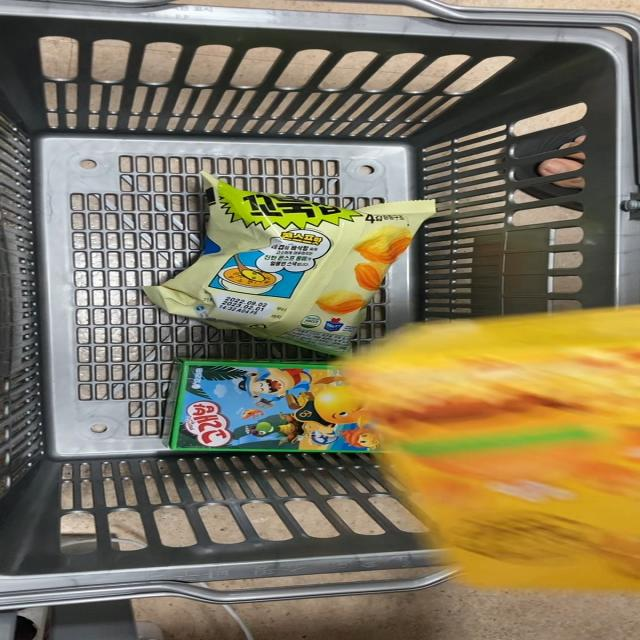ggobukchip: (140, 166, 407, 342)
goraebob: (158, 360, 350, 453)
minicrab: (359, 320, 640, 575)
